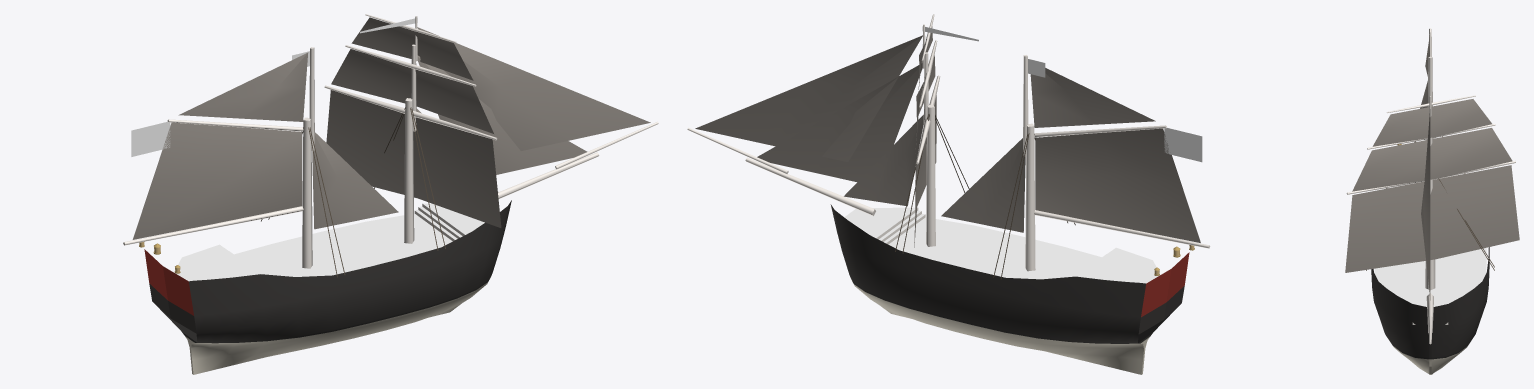
The model's file is brigantine_v2_lod2.glb.
3 renders of one model, left to right at view 1: azimuth 30°, elevation 25°; view 2: azimuth 150°, elevation 25°; view 3: azimuth 270°, elevation 25°, orthographic. The views are drawn at different scales.
Visible parts, largest first — view 1: SM_Brigantine_LOD2; view 2: SM_Brigantine_LOD2; view 3: SM_Brigantine_LOD2.
Part boxes in pixels (x1,y1,x2,y2): SM_Brigantine_LOD2: (123, 14, 658, 374); SM_Brigantine_LOD2: (687, 14, 1210, 374); SM_Brigantine_LOD2: (1345, 28, 1519, 374).
Bounding box in the file's own units: 37.95 × 17.1 × 10.23.
